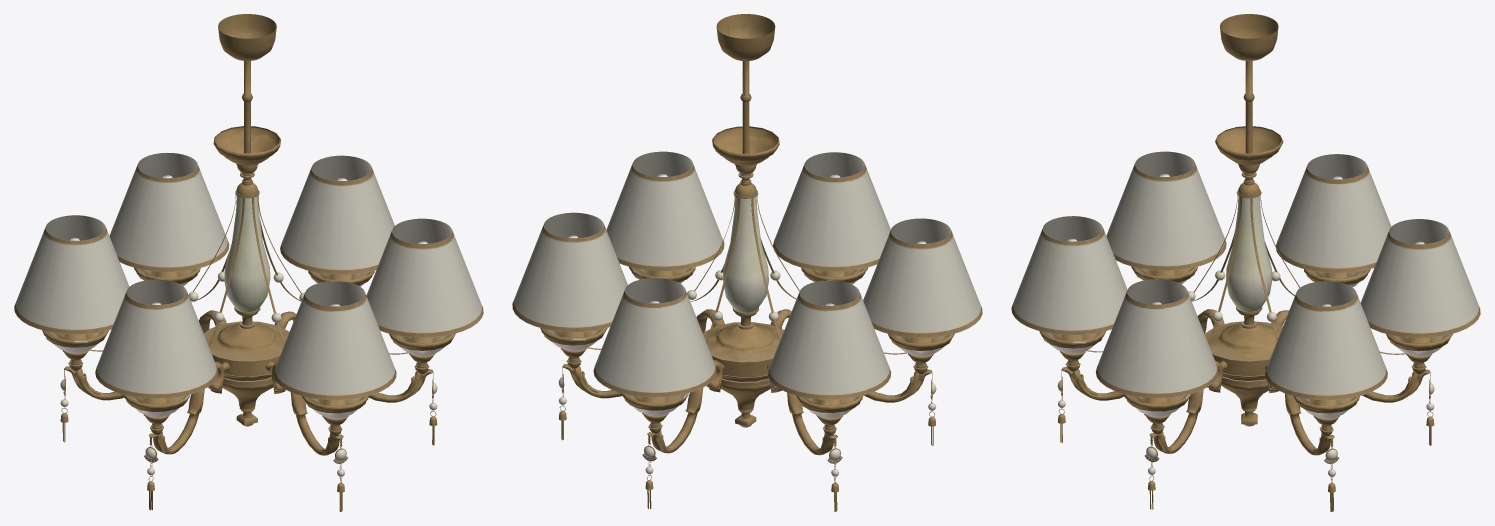
The model's file is Chandelier_01.glb.
3 renders of one model, left to right at view 1: azimuth 30°, elevation 25°; view 2: azimuth 150°, elevation 25°; view 3: azimuth 270°, elevation 25°, orthographic.
Visible parts, largest first — view 1: Chandelier_01; view 2: Chandelier_01; view 3: Chandelier_01.
Part boxes in pixels (box(x1,y1,x2,y2)): Chandelier_01: box(14, 14, 483, 511); Chandelier_01: box(512, 14, 982, 511); Chandelier_01: box(1011, 14, 1480, 511).
Bounding box in the file's own units: 0.7465 × 0.7983 × 0.8155.
2 materials, 1 textured.
